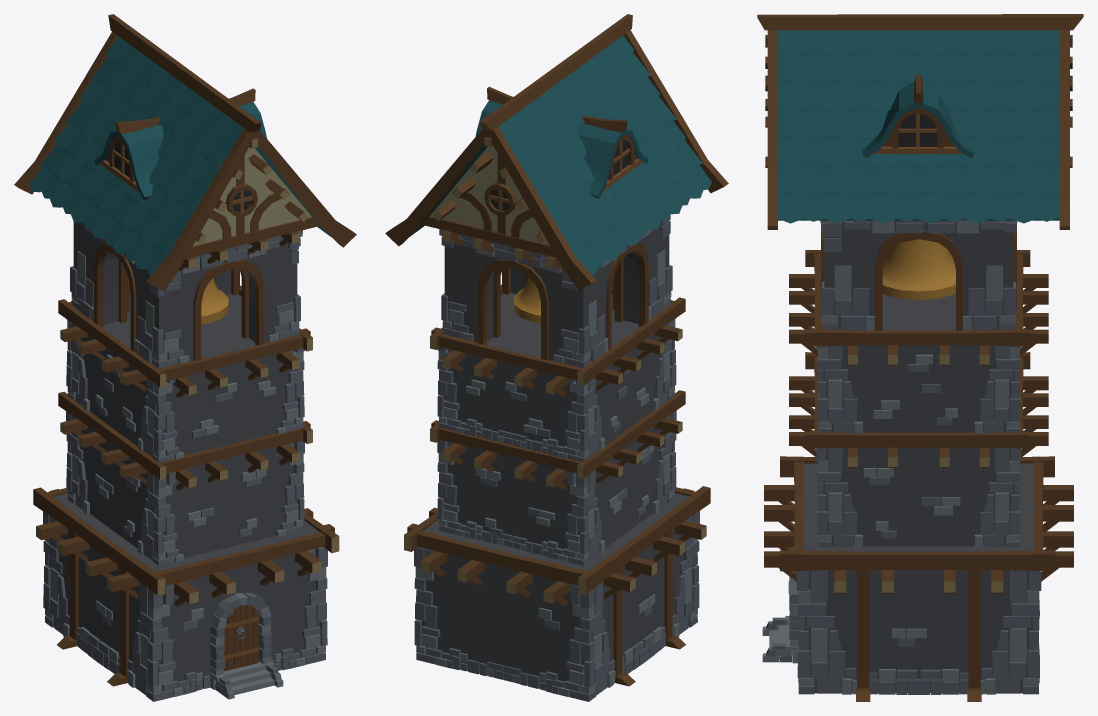
The model's file is bell-tower.glb.
The picture shows the model from 3 angles, left to right: view 1: azimuth 30°, elevation 25°; view 2: azimuth 150°, elevation 25°; view 3: azimuth 270°, elevation 25°; orthographic projection. The views are drawn at different scales.
Parts seen in each view (by area): view 1: Bell_Tower; view 2: Bell_Tower; view 3: Bell_Tower.
Boxes of the visible parts, bbox=[...] form: Bell_Tower: bbox=[14, 14, 356, 701]; Bell_Tower: bbox=[385, 14, 728, 701]; Bell_Tower: bbox=[757, 14, 1083, 701].
Size of the model in its own units: 1.94 by 4.76 by 2.23.
